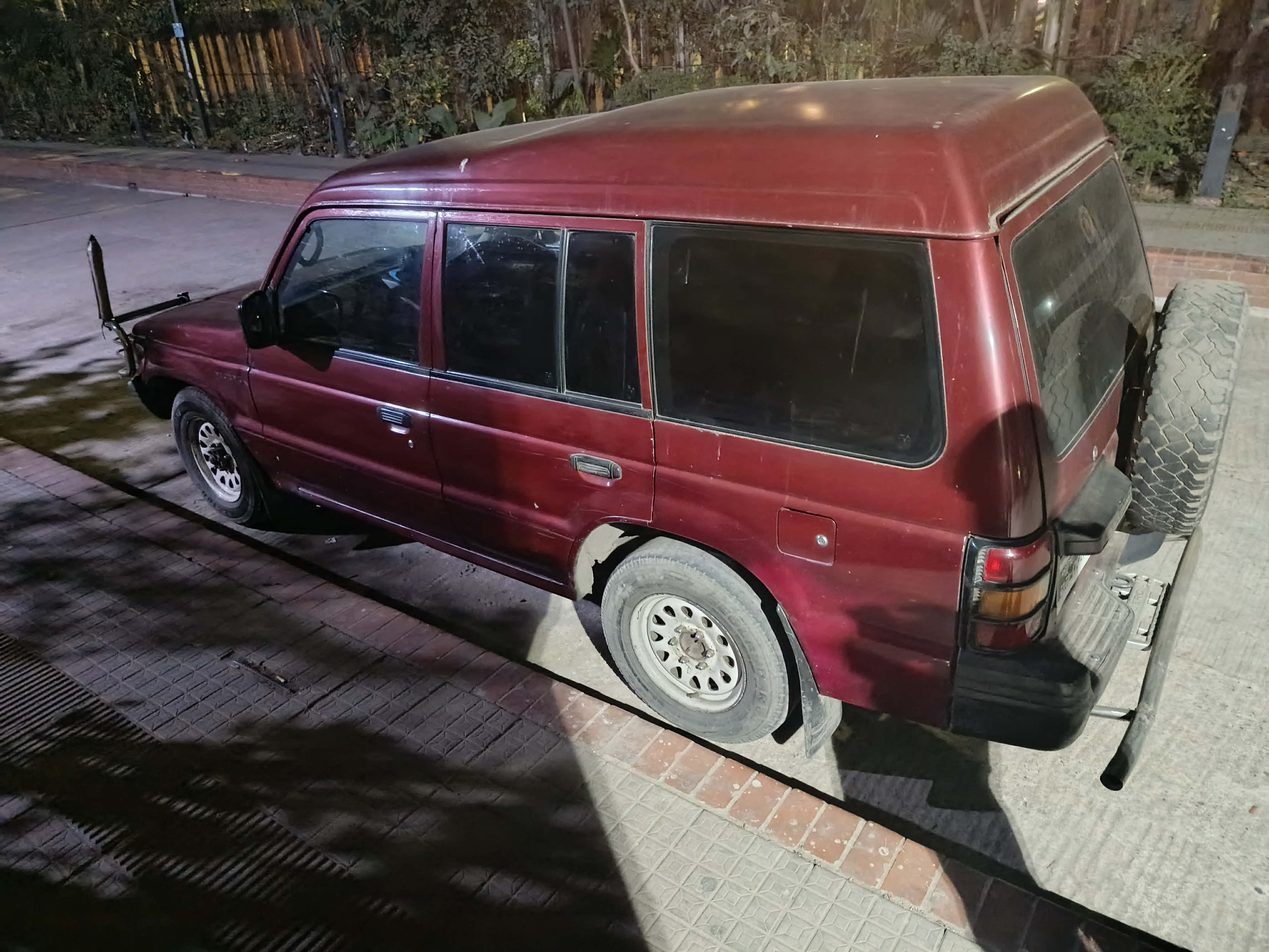Police cars: (78, 82, 1243, 803)
